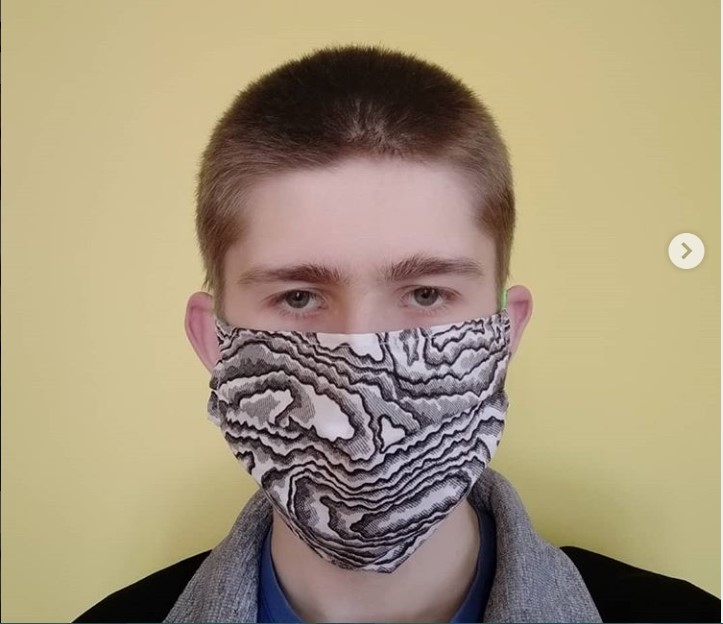face_with_mask: (187, 53, 535, 574)
